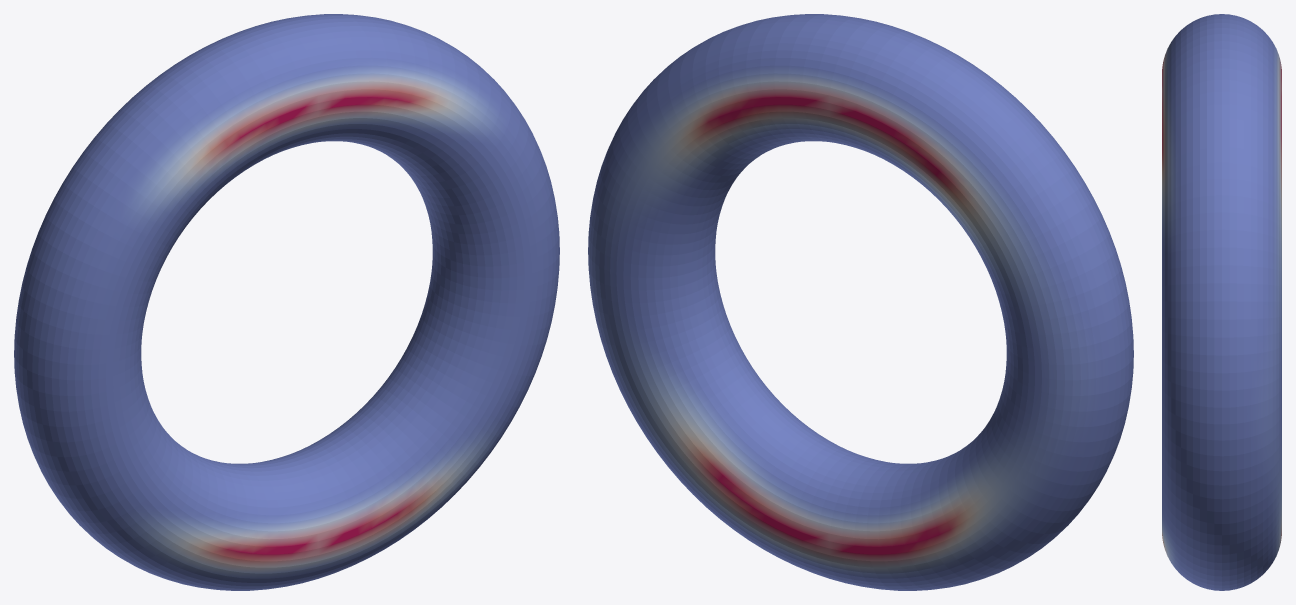
3 renders of one model, left to right at view 1: azimuth 30°, elevation 25°; view 2: azimuth 150°, elevation 25°; view 3: azimuth 270°, elevation 25°, orthographic. The views are drawn at different scales.
Parts seen in each view (by area): view 1: world; view 2: world; view 3: world.
Part boxes in pixels (x1=…): world: x1=14, y1=14, x2=559, y2=590; world: x1=588, y1=14, x2=1133, y2=590; world: x1=1162, y1=14, x2=1281, y2=590.
Size of the model in its own units: 16 by 16 by 3.33.
